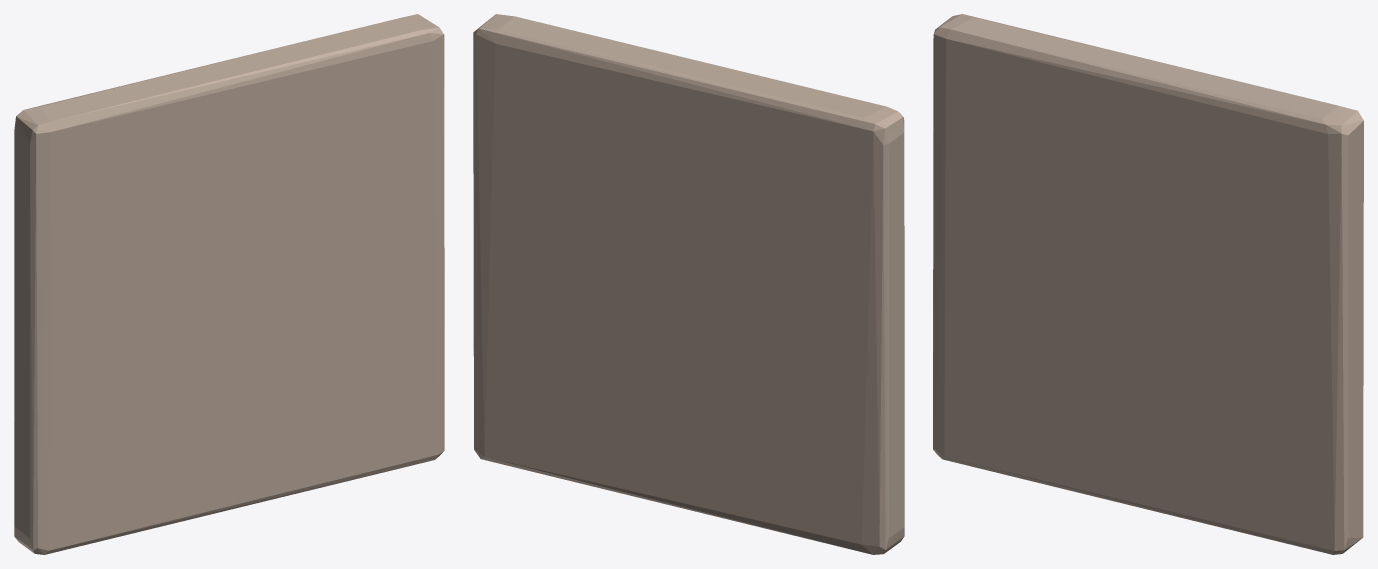
Rendered from Wall.fbx.
3 views of the same model, side by side, from view 1: azimuth 30°, elevation 25°; view 2: azimuth 150°, elevation 25°; view 3: azimuth 330°, elevation 25° (orthographic).
Visible parts, largest first — view 1: WallLowPoly; view 2: WallLowPoly; view 3: WallLowPoly.
Part boxes in pixels (bbox=[...]): WallLowPoly: bbox=[14, 14, 444, 554]; WallLowPoly: bbox=[473, 14, 904, 554]; WallLowPoly: bbox=[933, 14, 1363, 554].
Size of the model in its own units: 49.98 by 49.98 by 4.99.
